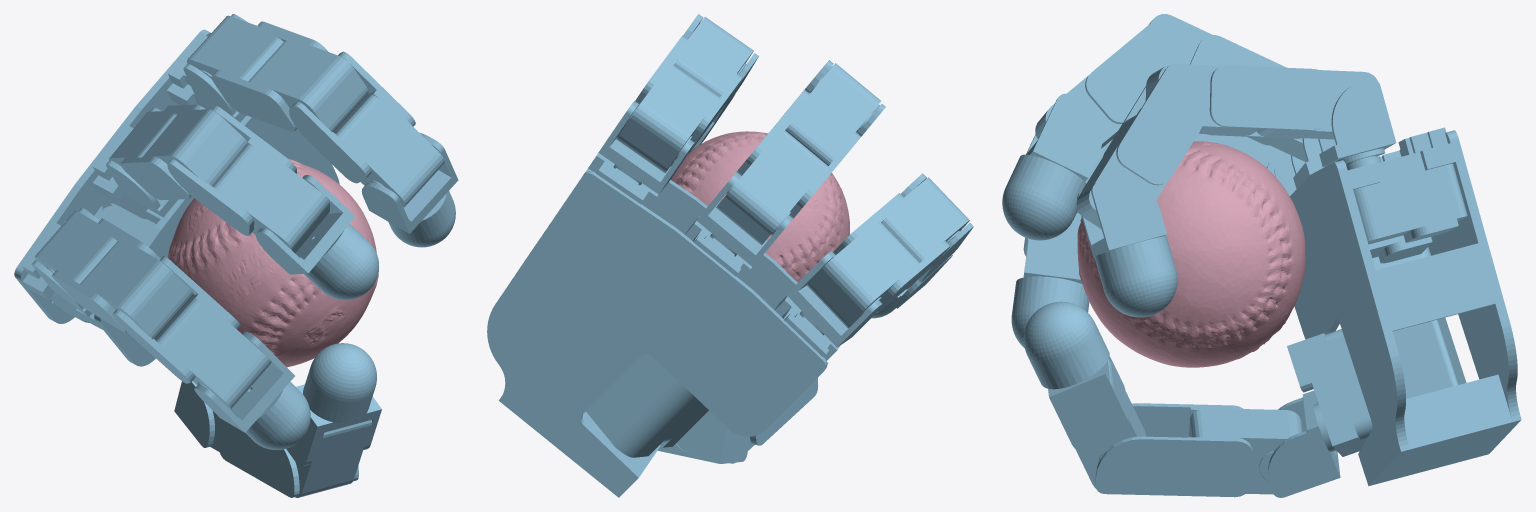
The picture shows the model from 3 angles, left to right: view 1: azimuth 30°, elevation 25°; view 2: azimuth 150°, elevation 25°; view 3: azimuth 270°, elevation 25°; orthographic projection. The views are drawn at different scales.
Visible parts, largest first — view 1: world, baseball.stl; view 2: world, baseball.stl; view 3: world, baseball.stl.
Boxes of the visible parts, x1,y1,x2,y2 form: world: (14,14,458,497); baseball.stl: (168,159,378,367); world: (487,14,973,497); baseball.stl: (670,131,849,282); world: (1002,14,1521,497); baseball.stl: (1077,141,1305,367).
Bounding box in the file's own units: 0.1432 × 0.1579 × 0.1654.
